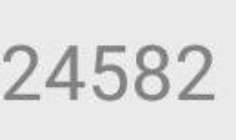TextView: (1, 1, 235, 139)
